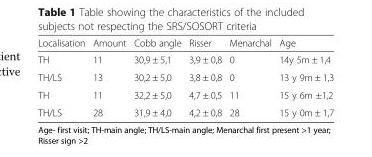table: (37, 36, 333, 117)
table column: (274, 36, 333, 117), (129, 36, 184, 117), (37, 36, 88, 117), (224, 36, 274, 117), (88, 36, 129, 117), (184, 36, 224, 117)
table column header: (37, 36, 333, 50)
table row: (37, 67, 333, 85), (37, 85, 333, 103), (37, 50, 333, 67), (37, 36, 333, 50), (37, 103, 333, 117)
